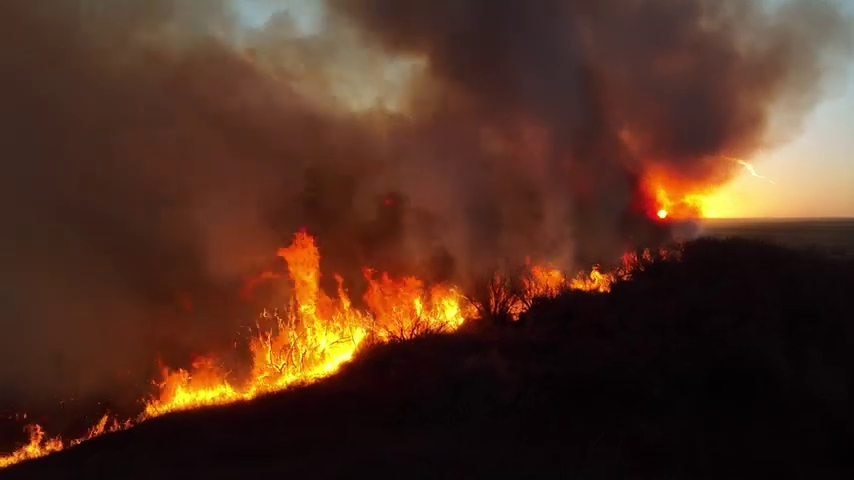forest_fire: (0, 232, 476, 468), (523, 265, 630, 294)
